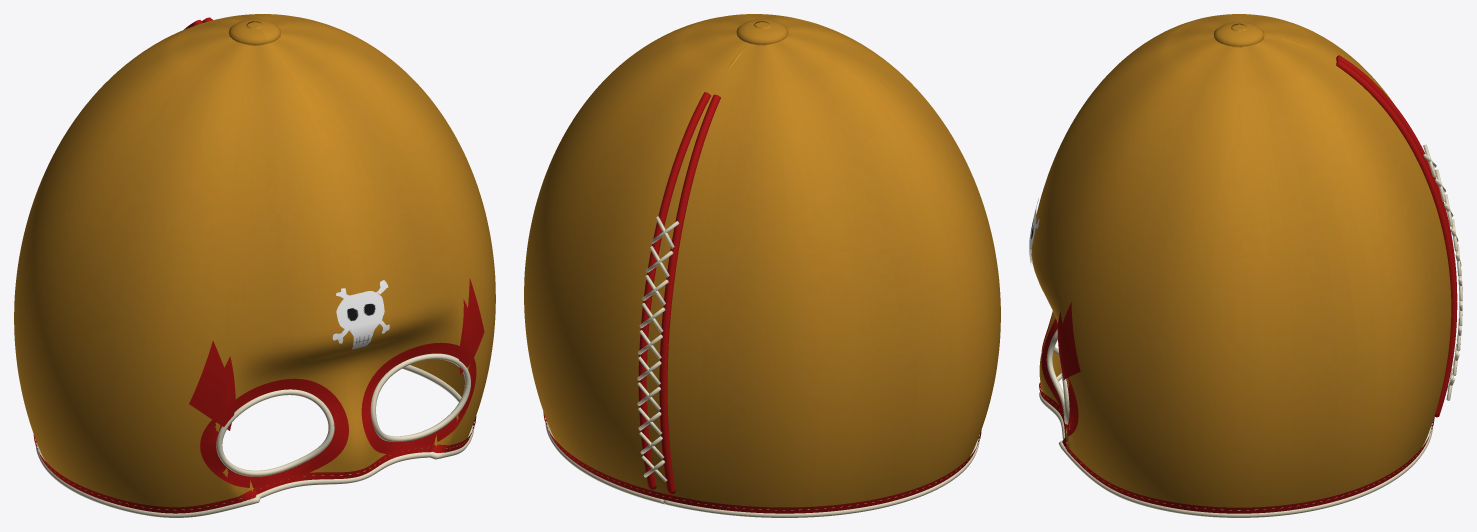
File: mask_luchador_male_hi.glb
3 renders of one model, left to right at view 1: azimuth 30°, elevation 25°; view 2: azimuth 150°, elevation 25°; view 3: azimuth 270°, elevation 25°, orthographic. The views are drawn at different scales.
Visible parts, largest first — view 1: mask_luchador; view 2: mask_luchador; view 3: mask_luchador.
Part boxes in pixels (x1,y1,x2,y2): mask_luchador: (14, 14, 495, 517); mask_luchador: (524, 14, 1000, 517); mask_luchador: (1029, 14, 1462, 517).
Bounding box in the file's own units: 0.5599 × 0.5148 × 0.5059.
1 material, 1 textured.
